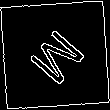M_SE: (21, 21, 89, 89)
